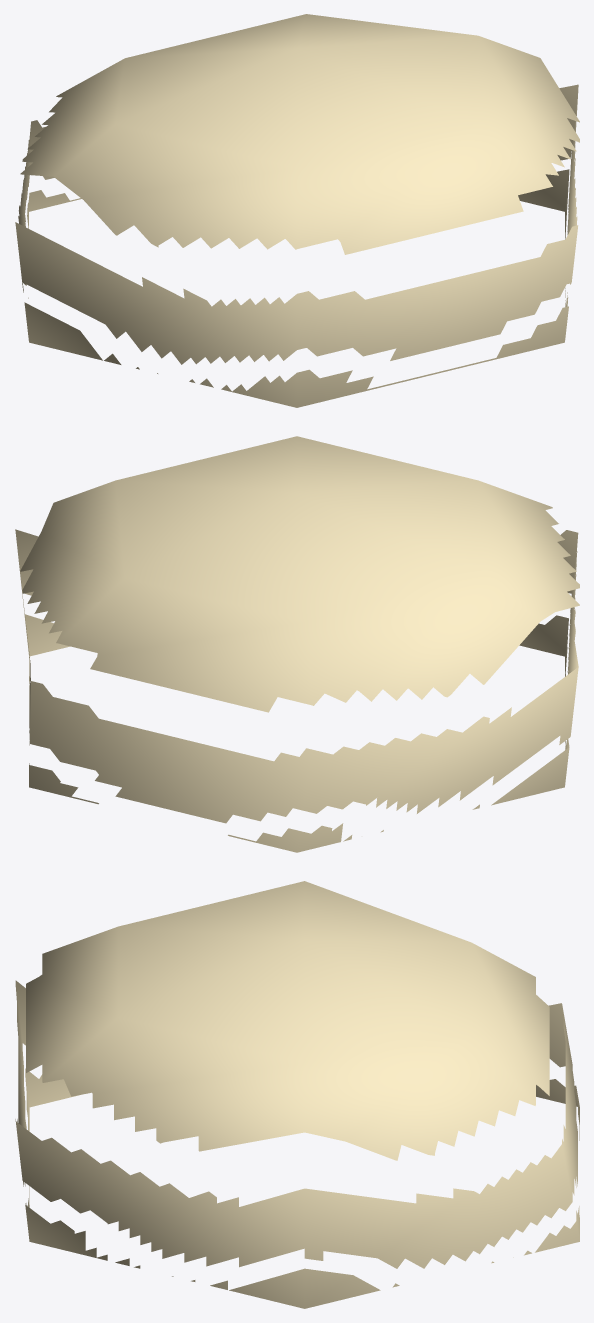
The model's file is Hat4.FBX.
The picture shows the model from 3 angles, top to bottom: view 1: azimuth 30°, elevation 25°; view 2: azimuth 150°, elevation 25°; view 3: azimuth 270°, elevation 25°; orthographic projection. The views are drawn at different scales.
Visible parts, largest first — view 1: Cylinder001; view 2: Cylinder001; view 3: Cylinder001.
Boxes of the visible parts, x1,y1,x2,y2 form: Cylinder001: (15,14,579,407); Cylinder001: (15,436,579,852); Cylinder001: (15,881,579,1308).
Size of the model in its own units: 34.28 by 13.23 by 28.9.
